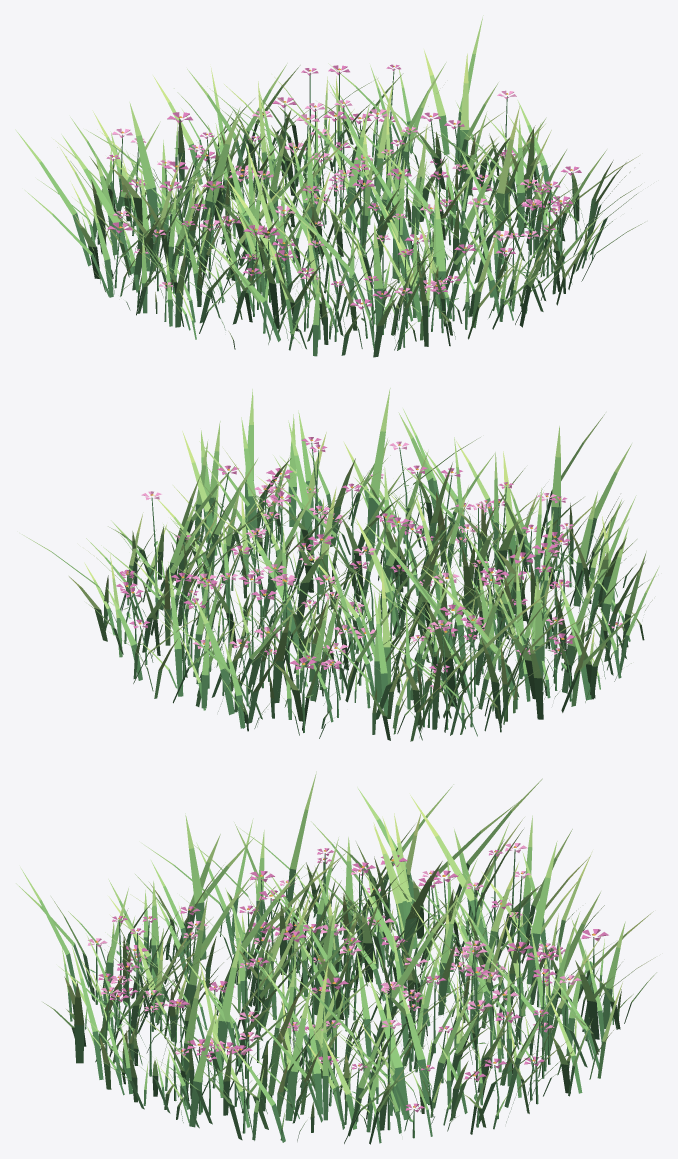
File: Meadow_01_Pink.glb
The picture shows the model from 3 angles, top to bottom: view 1: azimuth 30°, elevation 25°; view 2: azimuth 150°, elevation 25°; view 3: azimuth 270°, elevation 25°; orthographic projection. The views are drawn at different scales.
Parts seen in each view (by area): view 1: Meadow_01_Pink; view 2: Meadow_01_Pink; view 3: Meadow_01_Pink.
Part boxes in pixels (box(x1,y1,x2,y2)): Meadow_01_Pink: box(15, 15, 644, 357); Meadow_01_Pink: box(22, 388, 659, 741); Meadow_01_Pink: box(16, 771, 656, 1144).
Bounding box in the file's own units: 3.07 × 0.735 × 3.07.
